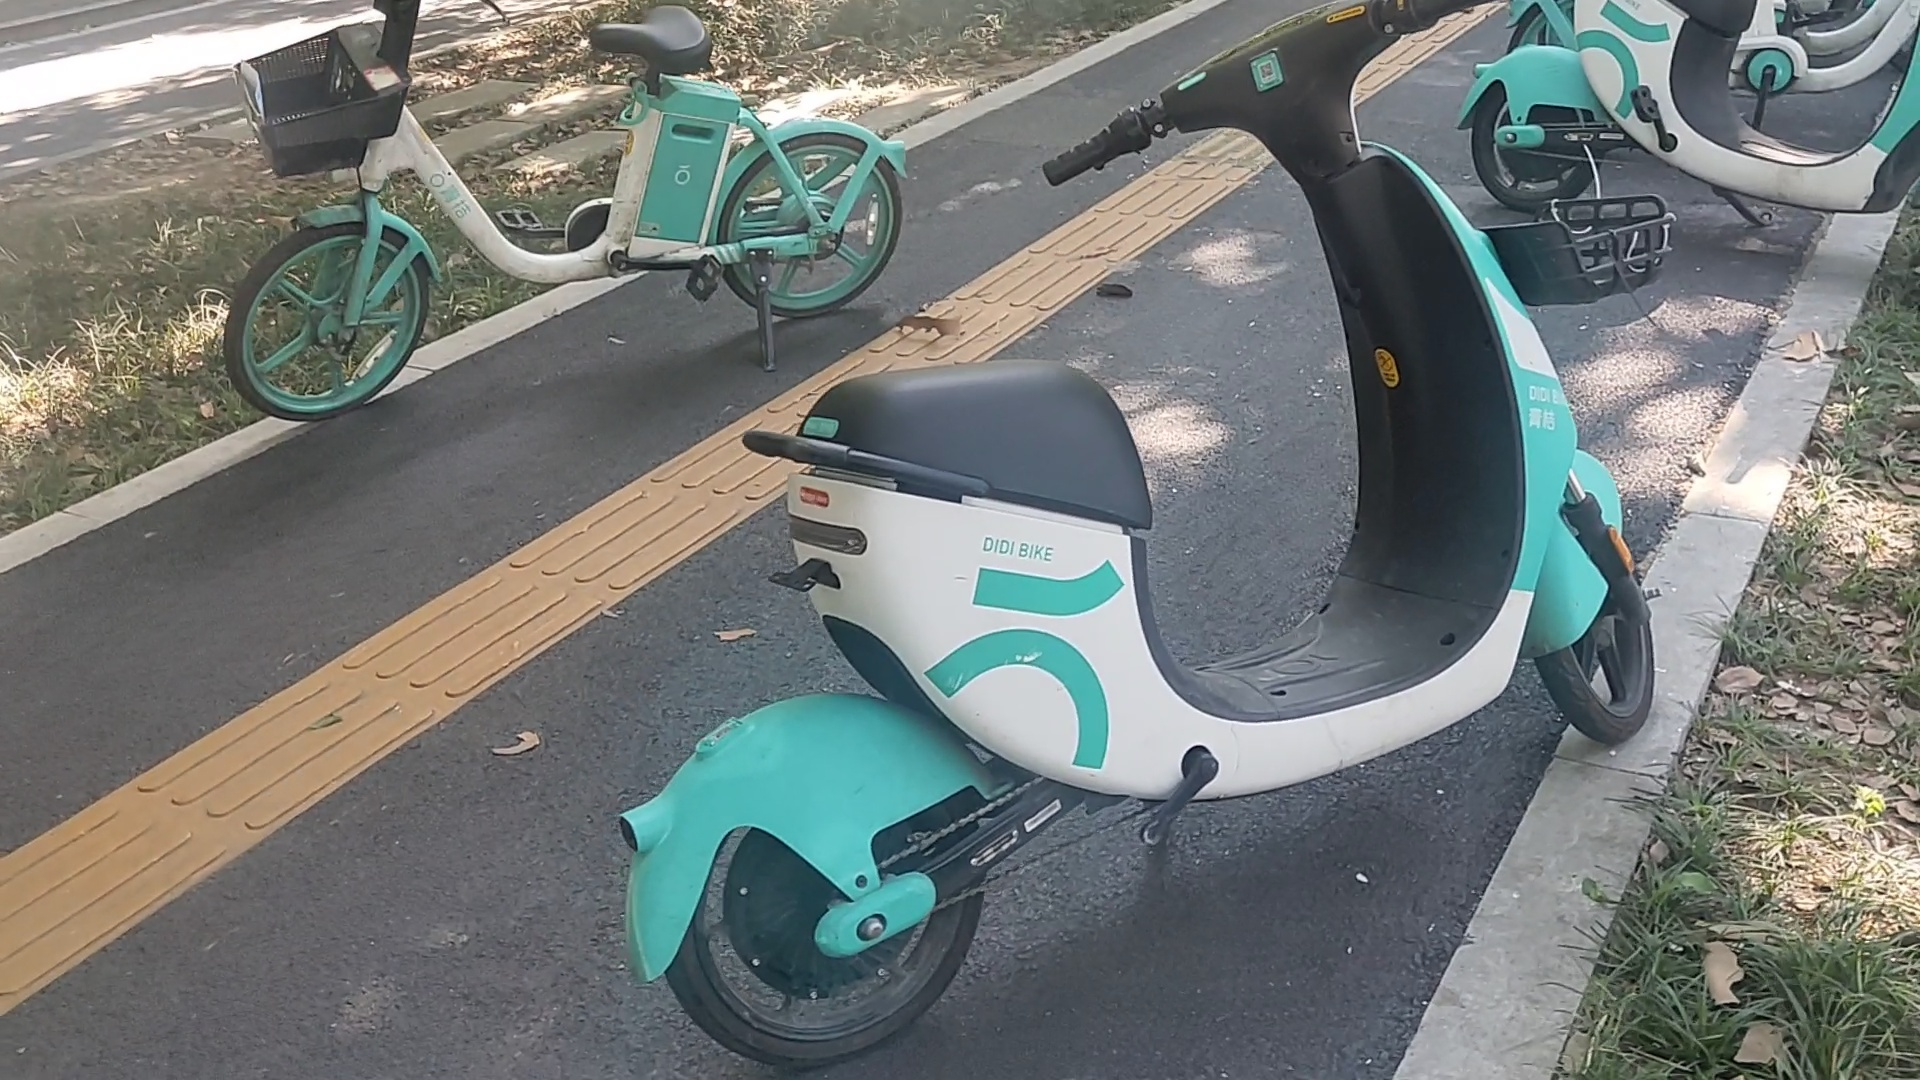non-vehicle: (618, 1, 1687, 1080), (220, 1, 905, 426), (1444, 0, 1920, 204)
